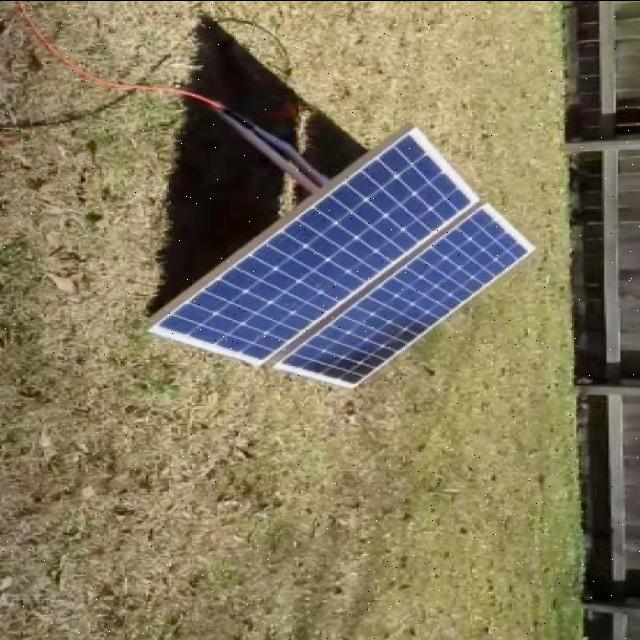Normal Solar Panel: (150, 127, 480, 364), (277, 208, 535, 388)
